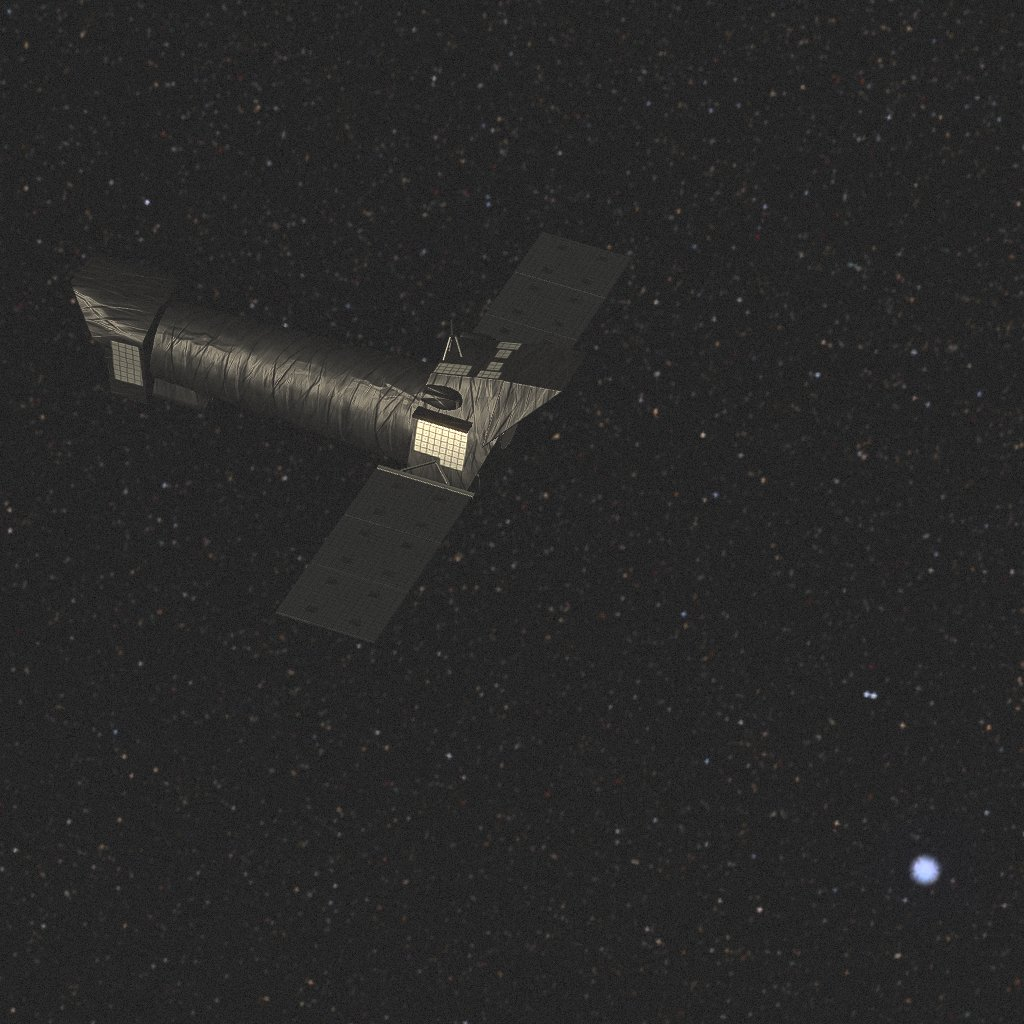xmm_newton: (71, 232, 633, 643)
